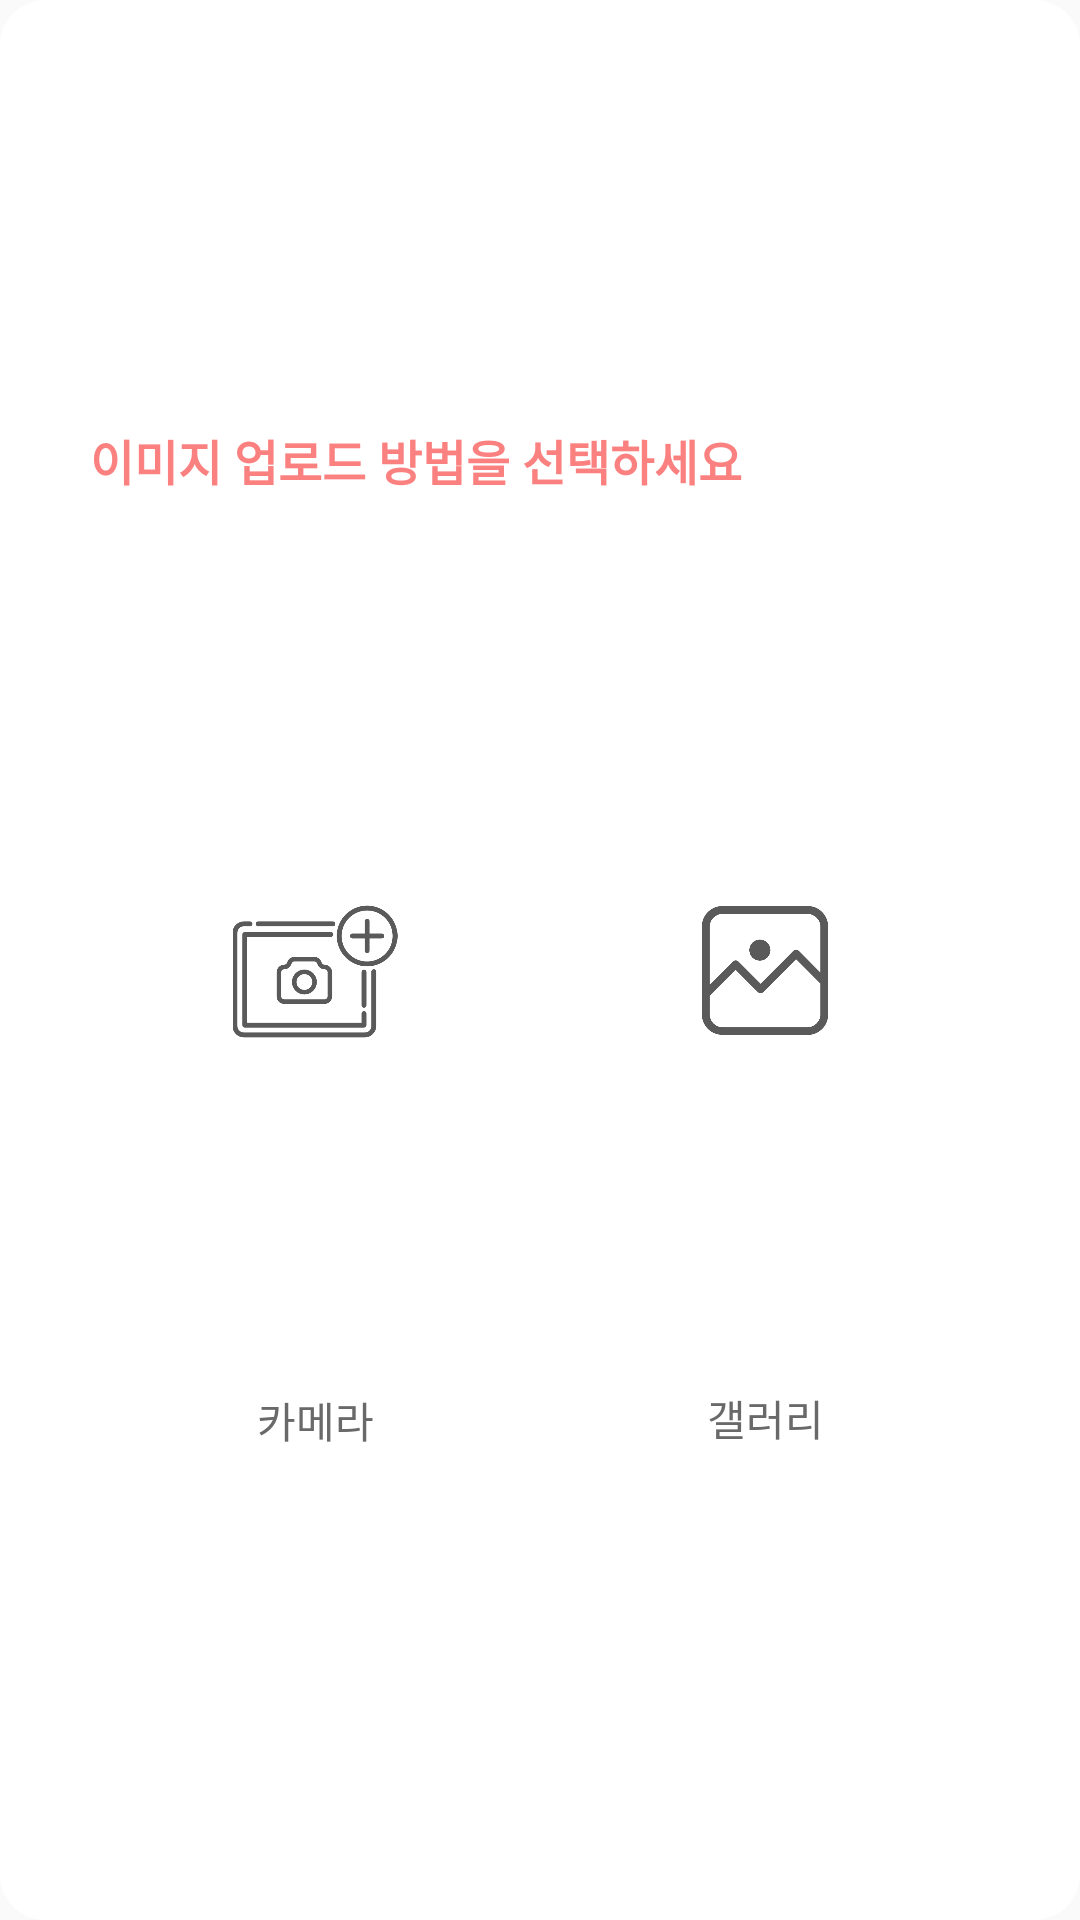

Named icons in this screenshot (1080 × 1920) and their centers, point (x, y):
camera: point (315, 971)
